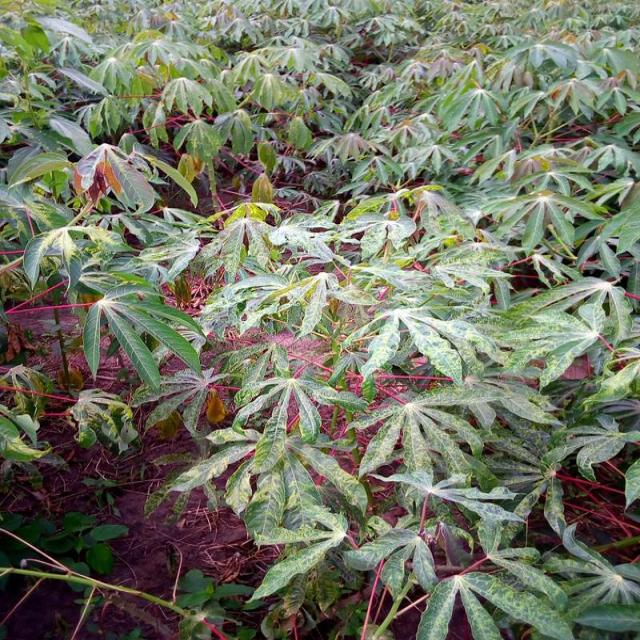cassava leaf: (1, 0, 638, 638), (73, 141, 155, 215)
